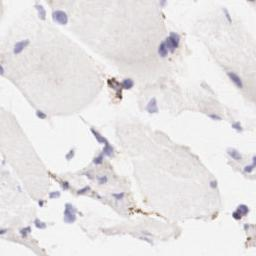nucleus: (90, 127, 113, 157), (64, 203, 77, 222), (226, 146, 242, 161), (145, 96, 159, 113), (244, 154, 256, 173), (14, 39, 29, 54), (53, 10, 67, 25), (227, 72, 242, 86), (34, 5, 47, 20), (168, 32, 181, 45), (91, 152, 103, 165), (165, 39, 176, 53), (230, 122, 244, 132), (33, 219, 47, 229), (77, 184, 90, 194), (223, 7, 231, 22), (160, 41, 167, 57), (35, 109, 46, 119), (19, 226, 30, 236), (97, 175, 109, 184), (48, 191, 61, 198), (205, 114, 223, 119), (122, 80, 134, 87), (66, 146, 73, 158), (113, 192, 124, 199), (241, 205, 249, 214), (62, 181, 69, 190), (38, 199, 45, 207), (210, 181, 217, 189), (234, 212, 241, 220), (1, 65, 4, 75), (160, 1, 166, 6), (1, 230, 8, 233), (244, 224, 248, 228)
positive_cell: (107, 74, 135, 102)
